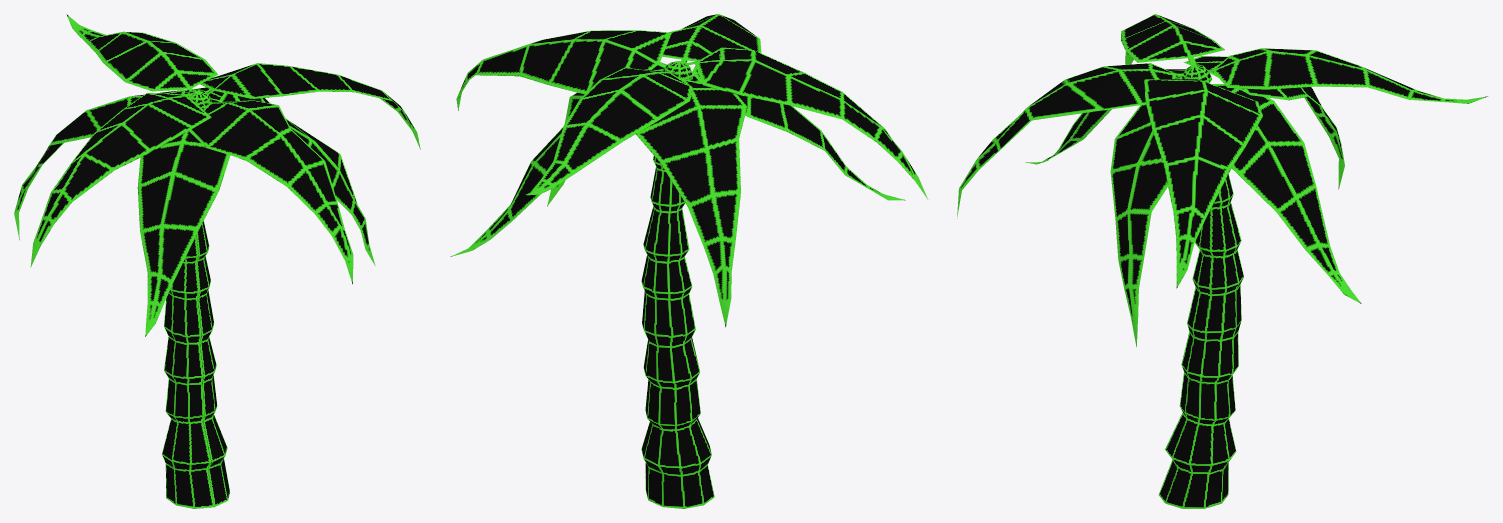
File: palm.gltf
3 views of the same model, side by side, from view 1: azimuth 30°, elevation 25°; view 2: azimuth 150°, elevation 25°; view 3: azimuth 270°, elevation 25° (orthographic). The views are drawn at different scales.
Parts seen in each view (by area): view 1: tronc, Feuille_5, Feuille_2, Feuille_1, Feuille_8, Feuille_6, Feuille_4, Feuille_7; view 2: tronc, Feuille_4, Feuille_8, Feuille_6, Feuille_1, Feuille_2, Feuille_5, Feuille_3; view 3: tronc, Feuille_6, Feuille_3, Feuille_7, Feuille_8, Feuille_2, Feuille_1, Feuille_4, Feuille_5.
Part boxes in pixels (left/top/right/bottom): tronc: left=162, top=89, right=229, bottom=508; Feuille_5: left=137, top=131, right=230, bottom=336; Feuille_2: left=189, top=100, right=353, bottom=284; Feuille_1: left=30, top=93, right=211, bottom=267; Feuille_8: left=66, top=14, right=217, bottom=91; Feuille_6: left=200, top=63, right=420, bottom=149; Feuille_4: left=14, top=90, right=185, bottom=239; Feuille_7: left=218, top=93, right=375, bottom=265; tronc: left=641, top=61, right=714, bottom=508; Feuille_4: left=636, top=78, right=747, bottom=327; Feuille_8: left=524, top=67, right=692, bottom=195; Feuille_6: left=456, top=30, right=671, bottom=110; Feuille_1: left=684, top=47, right=927, bottom=199; Feuille_2: left=662, top=14, right=761, bottom=63; Feuille_5: left=692, top=65, right=905, bottom=200; Feuille_3: left=450, top=127, right=562, bottom=256; tronc: left=1158, top=64, right=1243, bottom=508; Feuille_6: left=1144, top=78, right=1262, bottom=288; Feuille_3: left=1212, top=84, right=1361, bottom=303; Feuille_7: left=1110, top=104, right=1167, bottom=346; Feuille_8: left=1208, top=48, right=1487, bottom=103; Feuille_2: left=957, top=63, right=1183, bottom=216; Feuille_1: left=1121, top=14, right=1224, bottom=65; Feuille_4: left=1184, top=56, right=1344, bottom=189; Feuille_5: left=1026, top=69, right=1185, bottom=164.
Bounding box in the file's own units: 14.57 × 14.02 × 15.22.
2 materials, 2 textured.
